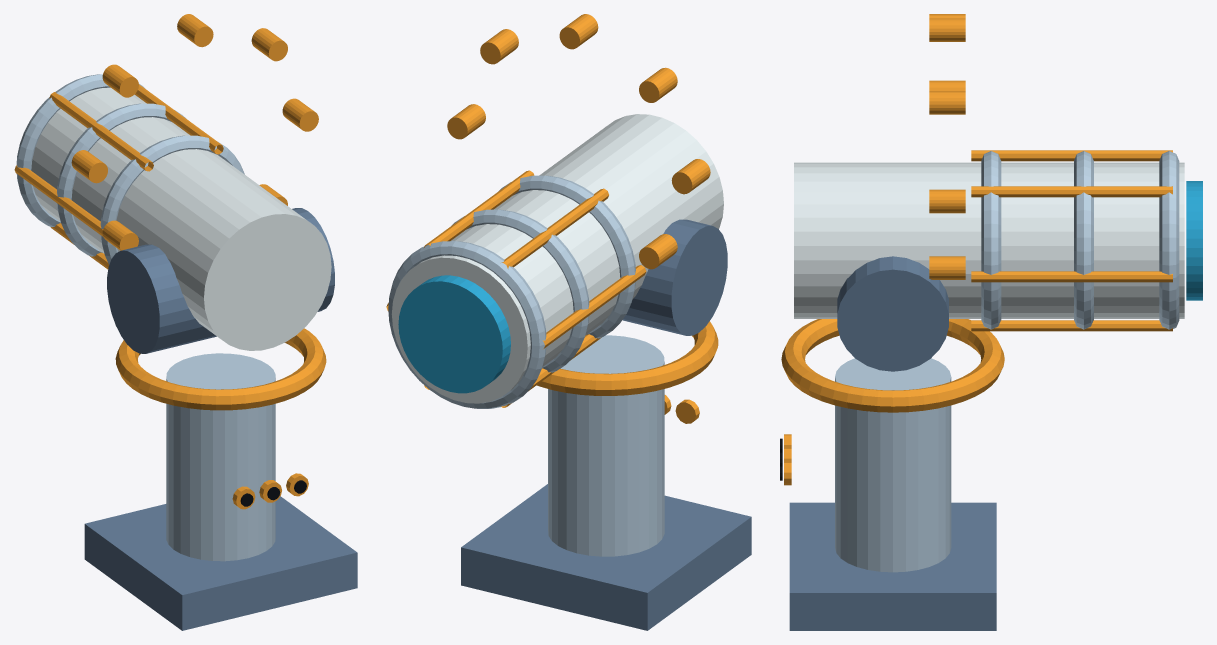
The model's file is 17_L89_SolarVectorTrackingGimbal.fbx.
3 views of the same model, side by side, from view 1: azimuth 30°, elevation 25°; view 2: azimuth 150°, elevation 25°; view 3: azimuth 270°, elevation 25° (orthographic). The views are drawn at different scales.
Parts seen in each view (by area): view 1: L87_SolarVectorTrackingGimbal_Part_0004, L87_SolarVectorTrackingGimbal_Part_0000, L87_SolarVectorTrackingGimbal_Part_0001, L87_SolarVectorTrackingGimbal_Part_0005, L87_SolarVectorTrackingGimbal_Part_0003, L87_SolarVectorTrackingGimbal_Part_0002, L87_SolarVectorTrackingGimbal_Part_0008, L87_SolarVectorTrackingGimbal_Part_0007; view 2: L87_SolarVectorTrackingGimbal_Part_0004, L87_SolarVectorTrackingGimbal_Part_0000, L87_SolarVectorTrackingGimbal_Part_0001, L87_SolarVectorTrackingGimbal_Part_0005, L87_SolarVectorTrackingGimbal_Part_0006, L87_SolarVectorTrackingGimbal_Part_0003, L87_SolarVectorTrackingGimbal_Part_0008, L87_SolarVectorTrackingGimbal_Part_0007, L87_SolarVectorTrackingGimbal_Part_0002; view 3: L87_SolarVectorTrackingGimbal_Part_0004, L87_SolarVectorTrackingGimbal_Part_0001, L87_SolarVectorTrackingGimbal_Part_0000, L87_SolarVectorTrackingGimbal_Part_0003, L87_SolarVectorTrackingGimbal_Part_0005, L87_SolarVectorTrackingGimbal_Part_0007, L87_SolarVectorTrackingGimbal_Part_0002, L87_SolarVectorTrackingGimbal_Part_0008, L87_SolarVectorTrackingGimbal_Part_0006.
Part boxes in pixels (x1,y1,x2,y2): L87_SolarVectorTrackingGimbal_Part_0004: (31, 87, 331, 350); L87_SolarVectorTrackingGimbal_Part_0000: (84, 496, 357, 630); L87_SolarVectorTrackingGimbal_Part_0001: (166, 353, 275, 561); L87_SolarVectorTrackingGimbal_Part_0005: (16, 74, 244, 264); L87_SolarVectorTrackingGimbal_Part_0003: (107, 208, 334, 353); L87_SolarVectorTrackingGimbal_Part_0002: (115, 328, 326, 410); L87_SolarVectorTrackingGimbal_Part_0008: (71, 14, 318, 250); L87_SolarVectorTrackingGimbal_Part_0007: (14, 84, 223, 269); L87_SolarVectorTrackingGimbal_Part_0004: (391, 114, 723, 403); L87_SolarVectorTrackingGimbal_Part_0000: (461, 484, 751, 630); L87_SolarVectorTrackingGimbal_Part_0001: (548, 335, 664, 556); L87_SolarVectorTrackingGimbal_Part_0005: (388, 175, 635, 408); L87_SolarVectorTrackingGimbal_Part_0006: (398, 275, 510, 393); L87_SolarVectorTrackingGimbal_Part_0003: (622, 219, 727, 335); L87_SolarVectorTrackingGimbal_Part_0008: (447, 14, 710, 269); L87_SolarVectorTrackingGimbal_Part_0007: (386, 170, 646, 407); L87_SolarVectorTrackingGimbal_Part_0002: (537, 321, 718, 395); L87_SolarVectorTrackingGimbal_Part_0004: (794, 162, 1184, 318); L87_SolarVectorTrackingGimbal_Part_0001: (835, 358, 951, 572); L87_SolarVectorTrackingGimbal_Part_0000: (789, 502, 996, 630); L87_SolarVectorTrackingGimbal_Part_0003: (837, 256, 948, 371); L87_SolarVectorTrackingGimbal_Part_0005: (981, 151, 1179, 329); L87_SolarVectorTrackingGimbal_Part_0007: (971, 150, 1172, 331); L87_SolarVectorTrackingGimbal_Part_0002: (781, 319, 1004, 412); L87_SolarVectorTrackingGimbal_Part_0008: (929, 14, 965, 279); L87_SolarVectorTrackingGimbal_Part_0006: (1186, 181, 1202, 300).
Size of the model in its own units: 155 by 344 by 233.
